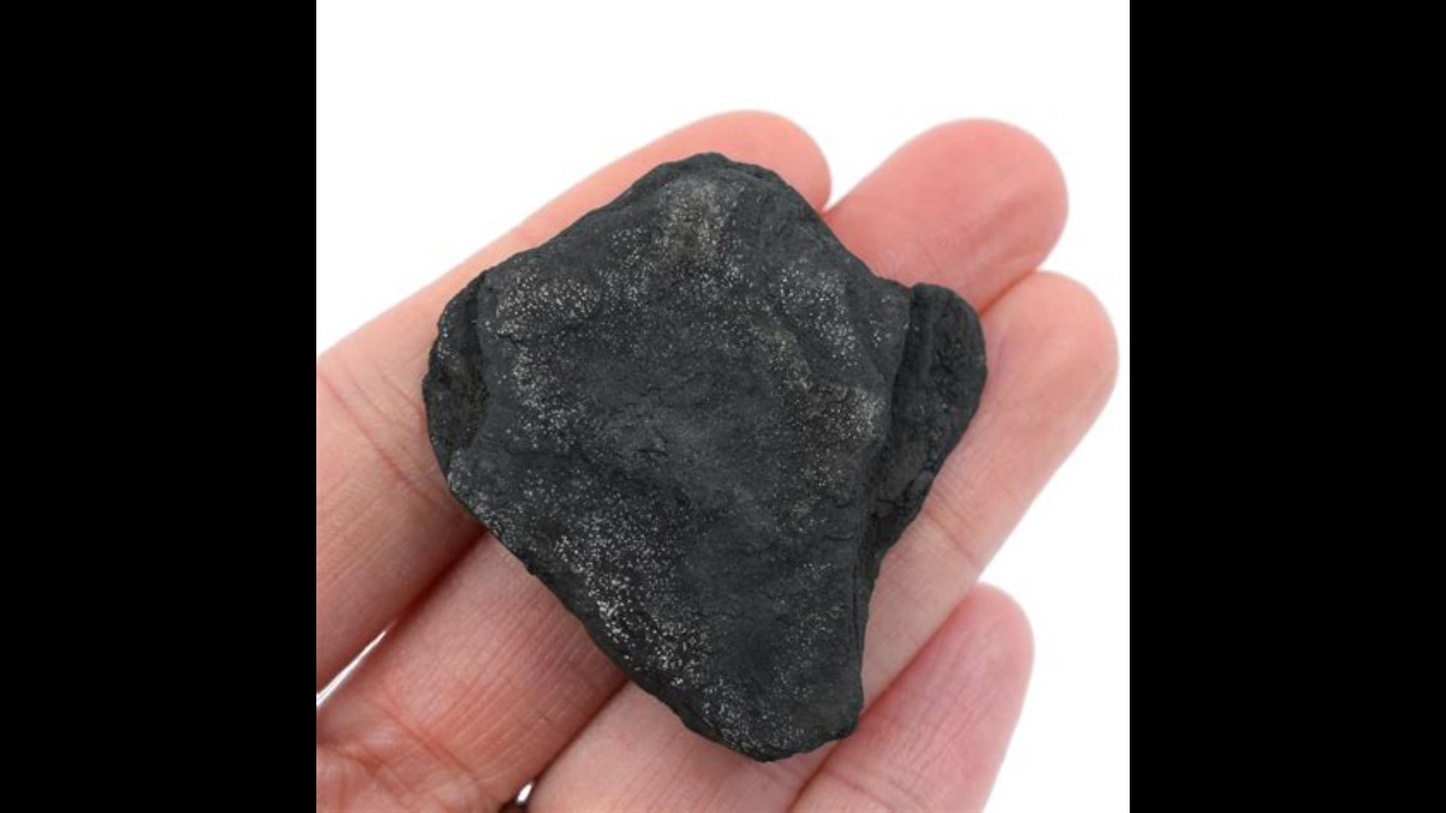rock: (424, 154, 982, 758)
